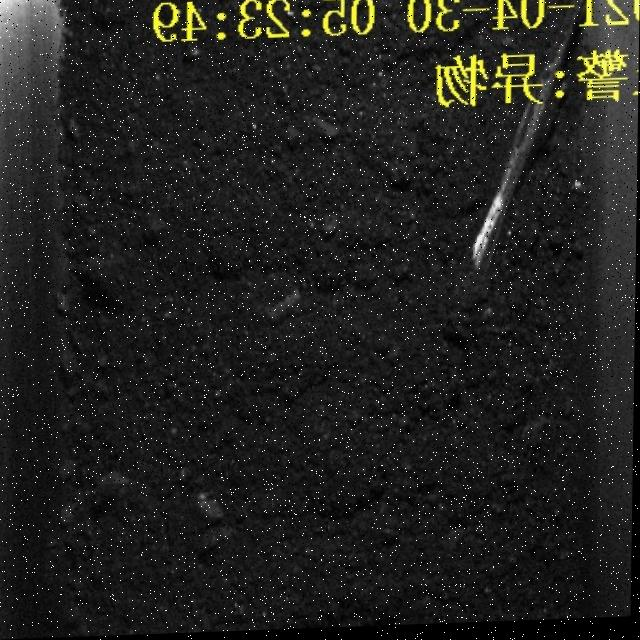bolt: (463, 0, 590, 267)
